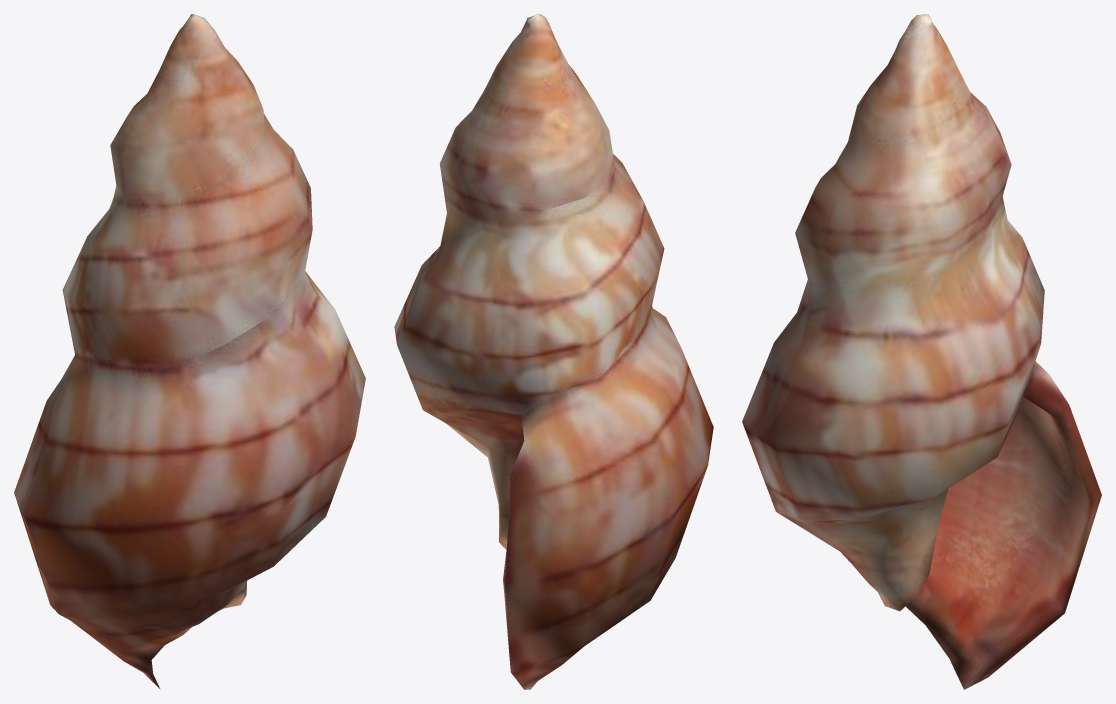
File: buzio.glb
3 renders of one model, left to right at view 1: azimuth 30°, elevation 25°; view 2: azimuth 150°, elevation 25°; view 3: azimuth 270°, elevation 25°, orthographic. The views are drawn at different scales.
Visible parts, largest first — view 1: Cylinder009_01 - Default_0; view 2: Cylinder009_01 - Default_0; view 3: Cylinder009_01 - Default_0.
Part boxes in pixels (x1,y1,x2,y2): Cylinder009_01 - Default_0: (14, 14, 365, 689); Cylinder009_01 - Default_0: (394, 14, 713, 689); Cylinder009_01 - Default_0: (742, 14, 1101, 689).
Bounding box in the file's own units: 0.4512 × 1 × 0.4778.
1 material, 1 textured.
